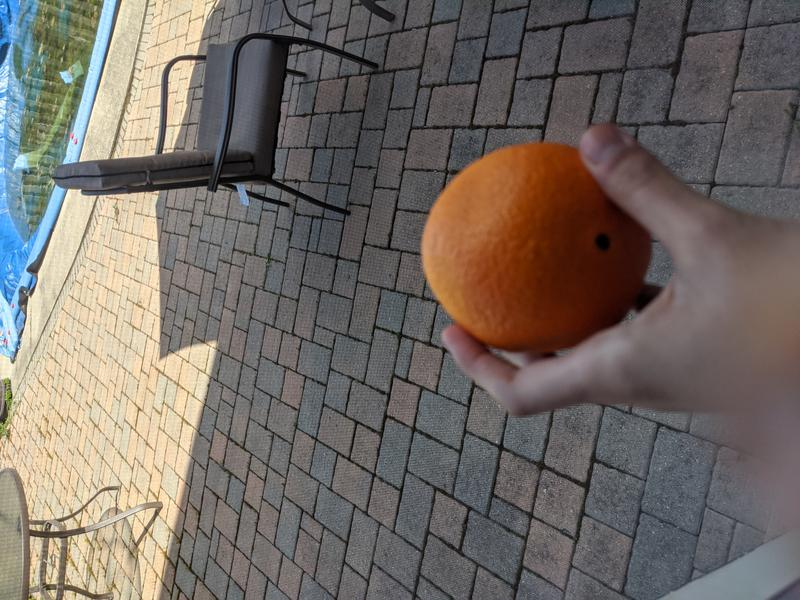orange: (419, 141, 655, 354)
